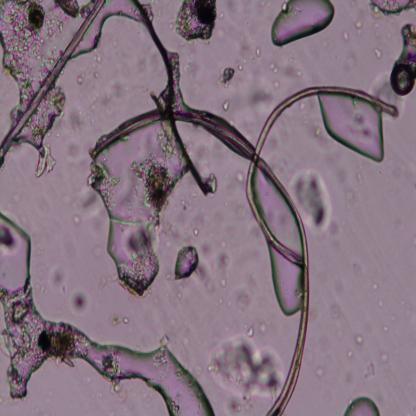Air bubble: (0, 215, 219, 416), (98, 125, 186, 297), (316, 94, 386, 166), (268, 1, 336, 47), (264, 255, 301, 316), (170, 244, 198, 282), (369, 0, 416, 20), (343, 395, 380, 416)
Background material: (244, 83, 402, 266), (0, 0, 137, 147), (134, 0, 210, 200), (204, 334, 288, 412), (0, 0, 46, 75), (0, 287, 43, 366), (289, 164, 336, 235), (130, 154, 175, 210), (175, 0, 221, 42), (38, 321, 81, 365), (30, 86, 66, 136), (371, 72, 408, 113), (92, 79, 127, 116), (90, 161, 116, 202), (198, 240, 216, 291), (154, 121, 177, 157), (104, 352, 123, 394), (36, 141, 57, 176), (162, 219, 186, 248), (398, 24, 416, 62), (216, 222, 238, 252), (0, 224, 21, 254), (248, 85, 277, 106), (69, 107, 89, 136), (192, 139, 211, 168), (77, 192, 95, 222), (50, 266, 69, 294), (236, 44, 255, 71), (72, 288, 91, 315), (234, 289, 254, 314), (56, 0, 83, 18), (63, 143, 84, 162), (218, 66, 236, 88), (217, 254, 235, 275), (153, 353, 167, 378), (344, 187, 359, 210), (203, 174, 220, 194), (282, 62, 302, 78), (298, 101, 310, 126), (107, 310, 123, 328), (181, 326, 192, 350), (362, 360, 376, 378), (268, 133, 282, 151), (234, 204, 248, 220), (157, 333, 170, 350), (372, 43, 385, 60), (191, 362, 204, 378), (93, 48, 107, 62), (185, 58, 198, 72), (372, 20, 382, 38), (315, 124, 326, 140), (331, 302, 341, 319), (352, 331, 364, 345), (236, 168, 245, 185), (180, 199, 192, 211), (378, 350, 389, 363), (258, 321, 268, 335), (222, 98, 232, 112), (218, 278, 228, 291), (268, 62, 278, 74), (245, 327, 254, 338), (356, 173, 364, 185), (346, 347, 354, 359), (342, 30, 350, 42), (377, 298, 386, 308), (357, 21, 363, 35), (122, 315, 130, 325), (388, 312, 396, 322), (255, 47, 262, 58), (273, 80, 281, 88), (317, 368, 325, 376), (78, 77, 86, 85), (258, 0, 268, 6), (216, 297, 224, 304), (383, 324, 390, 332), (192, 228, 199, 236), (223, 327, 230, 334), (373, 282, 379, 290), (219, 11, 225, 19), (190, 192, 198, 197), (223, 200, 228, 206)
Diatom: (389, 62, 416, 97)
Microfibre: (85, 106, 313, 416)
